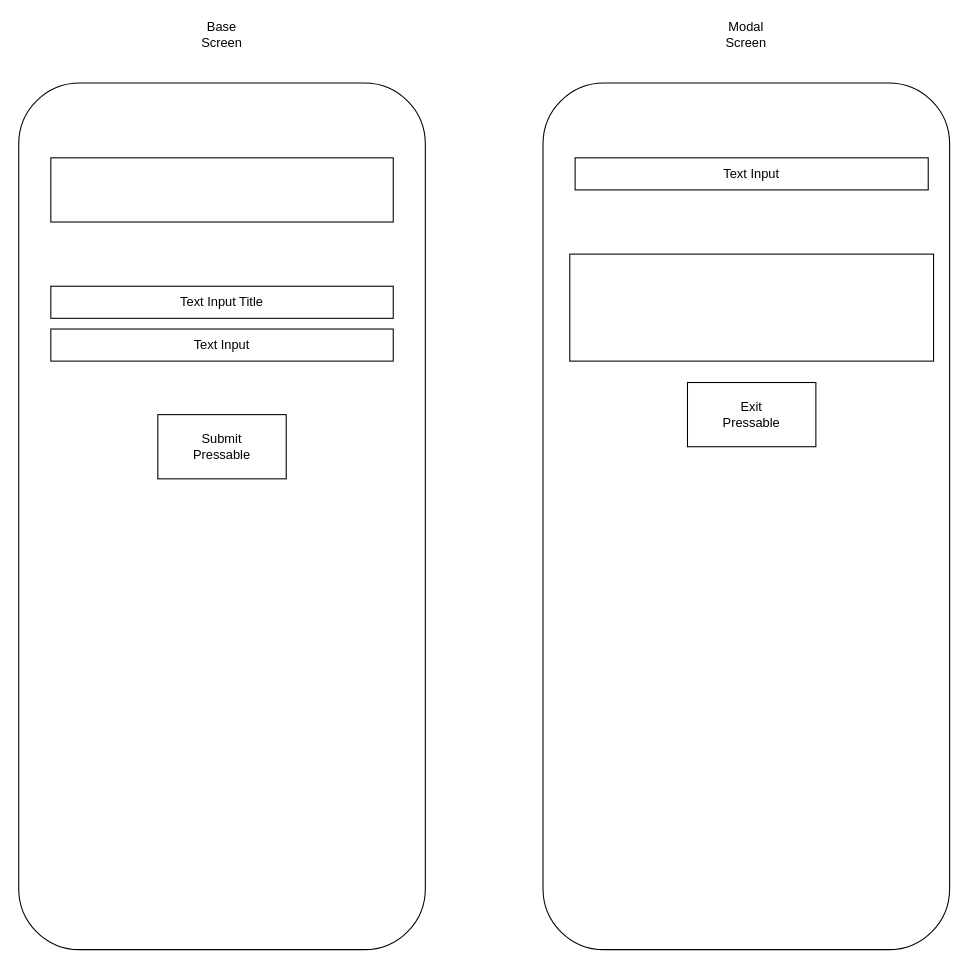
The diagram is 968 pixels wide and 968 high, and some of its shapes have lost their labels. The shapes that lost their labels are listed below. From the top down, each one's centre as x and y in pixels, then its label:
point (221, 189): Title
point (751, 307): Response
